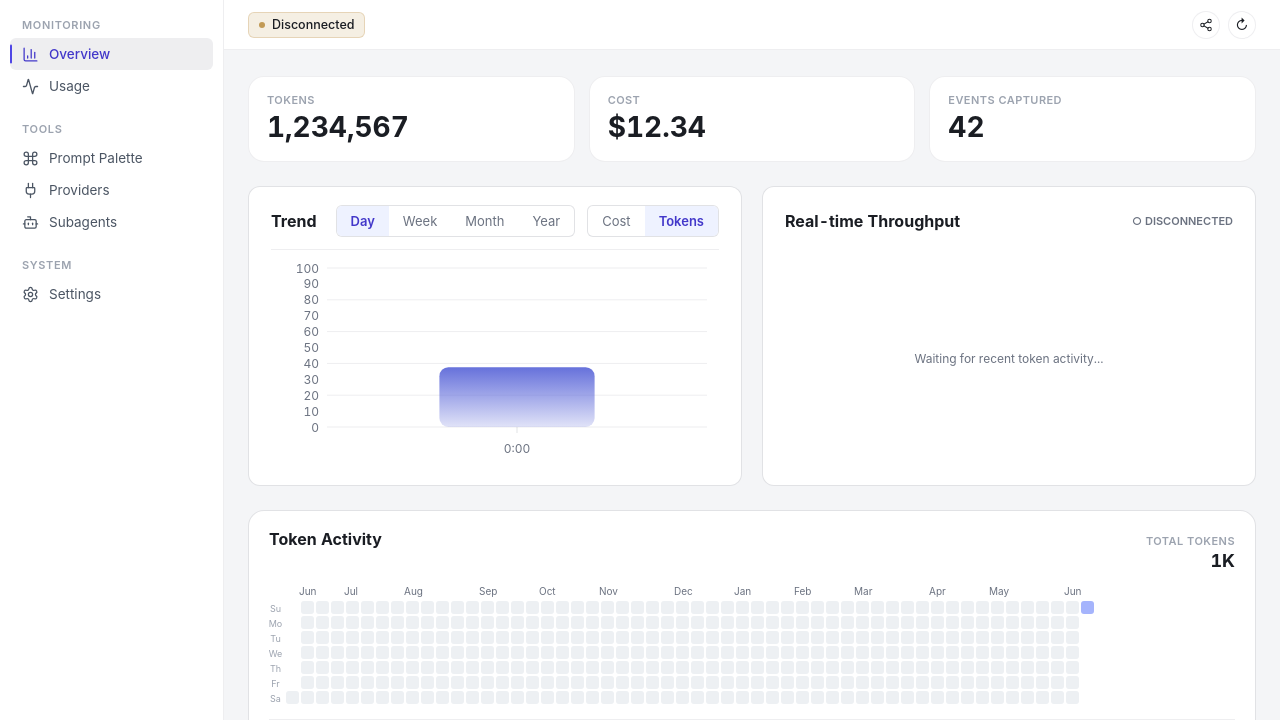
App › navigates to prompt palette page when Prompt Palette sidebar item is clicked
Click the button "Prompt Palette" at x=112, y=158, box [10,142,213,174]
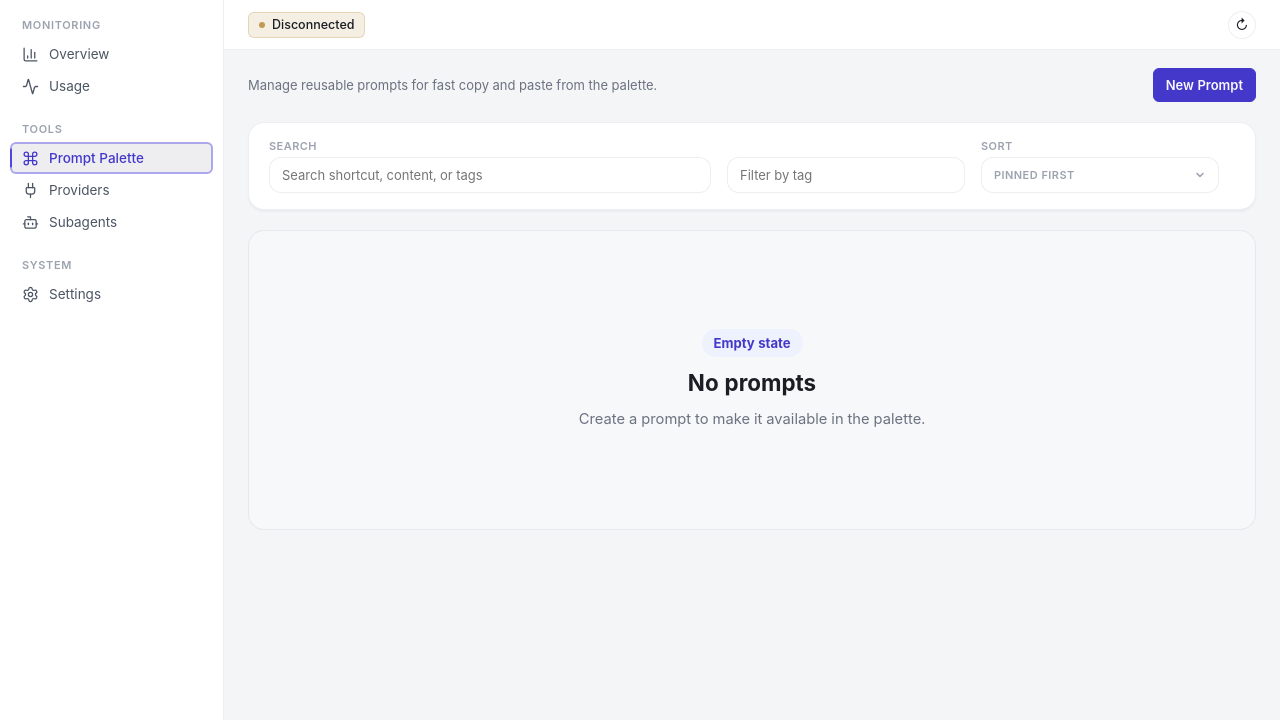
Expected: the search field named "Search prompts" is shown, [269,157,711,193]
